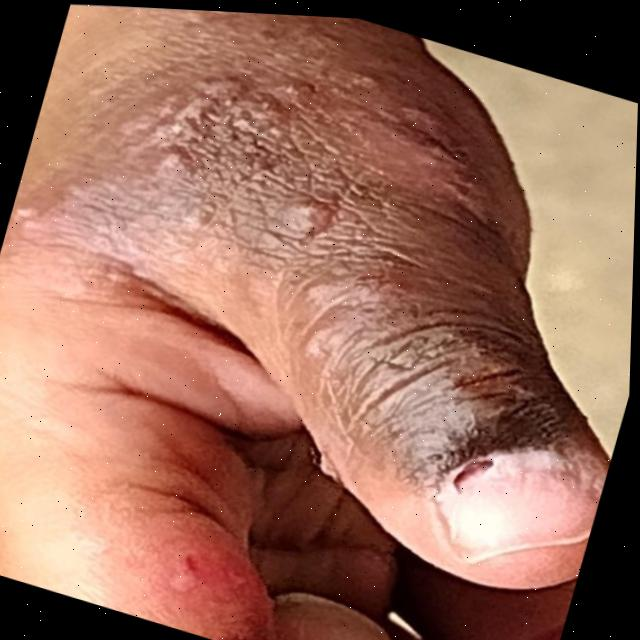Eczema: (50, 30, 627, 538)
